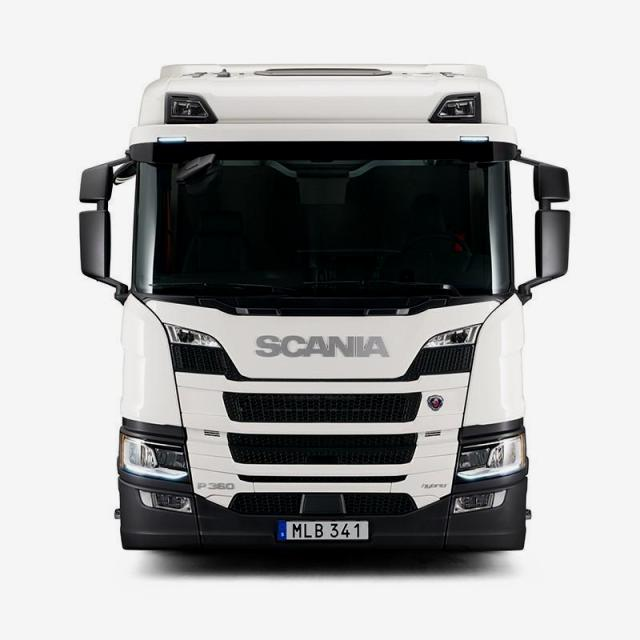Bus: (35, 31, 591, 587)
